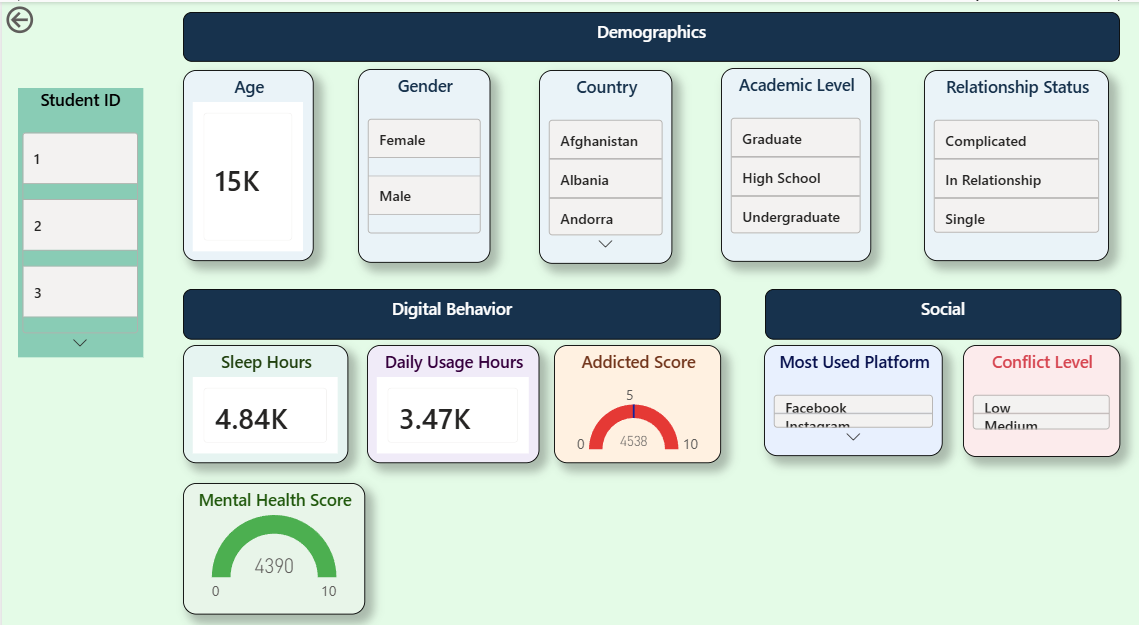

Layout of this report page (visuals, bound fields, positions):
{"tool":"powerbi","page":{"name":"Student Profile","canvas":[1280,720],"ordinal":6},"visuals":[{"type":"actionButton","box":[0,0,100,40],"z":0},{"type":"cardVisual","title":"Student ID","fields":{"Rows":["Student Details.Student_ID"]},"box":[18,96.8,140.6,302.6],"z":1000},{"type":"cardVisual","title":"Academic Level","fields":{"Rows":["Student Details.Academic_Level"]},"box":[808.9,74.1,168.6,217.6],"z":2000},{"type":"cardVisual","title":"Country","fields":{"Rows":["Student Details.Country"]},"box":[603.8,76.3,150.4,217.6],"z":3000},{"type":"cardVisual","title":"Age","fields":{"Data":["Sum(Student Details.Age)"]},"box":[203.9,76.3,147,215.3],"z":4000},{"type":"cardVisual","title":"Gender","fields":{"Rows":["Student Details.Gender"]},"box":[401,75.2,149.2,217.6],"z":5000},{"type":"cardVisual","title":"Relationship Status","fields":{"Rows":["Student Details.Relationship_Status"]},"box":[1036.7,76.3,208.5,215.3],"z":6000},{"type":"cardVisual","title":"Sleep Hours","fields":{"Data":["Sum(Student Details.Sleep_Hours_Per_Night)"]},"box":[203.9,386.2,185.7,133.3],"z":7000},{"type":"cardVisual","title":"Daily Usage Hours","fields":{"Data":["Sum(Platform Details.Avg_Daily_Usage_Hours)"]},"box":[410.1,386.2,193.7,133.3],"z":8000},{"type":"gauge","title":"Addicted Score","fields":{"Y":["Sum(Student Details.Addicted_Score)"]},"box":[620.9,386.2,188,133.3],"z":9000},{"type":"cardVisual","title":"Most Used Platform","fields":{"Rows":["Platform Details.Most_Used_Platform"]},"box":[857.2,385.9,201.4,124.9],"z":10000},{"type":"cardVisual","title":"Conflict Level","fields":{"Rows":["Student Details.Conflict Level"]},"box":[1081.1,385.9,176.6,126],"z":11000},{"type":"gauge","title":"Mental Health Score","fields":{"Y":["Sum(Student Details.Mental_Health_Score)"]},"box":[203.9,541.1,205.1,148.1],"z":12000},{"type":"textbox","box":[203.9,11.4,1053.8,55.8],"z":13000},{"type":"textbox","box":[203.9,322.4,604.9,57],"z":14000},{"type":"textbox","box":[858.4,322.9,400.5,57.4],"z":15000}]}

Visuals, with their boxes in screenshot pixels (x1, y1, x2, y2), scaled from the page's 1280x720 canvas onto the 1139x625 screenshot:
actionButton: select_region(0, 0, 89, 35)
"Student ID" cardVisual: select_region(16, 84, 141, 347)
"Academic Level" cardVisual: select_region(720, 64, 870, 253)
"Country" cardVisual: select_region(537, 66, 671, 255)
"Age" cardVisual: select_region(181, 66, 312, 253)
"Gender" cardVisual: select_region(357, 65, 490, 254)
"Relationship Status" cardVisual: select_region(923, 66, 1108, 253)
"Sleep Hours" cardVisual: select_region(181, 335, 347, 451)
"Daily Usage Hours" cardVisual: select_region(365, 335, 537, 451)
"Addicted Score" gauge: select_region(553, 335, 720, 451)
"Most Used Platform" cardVisual: select_region(763, 335, 942, 443)
"Conflict Level" cardVisual: select_region(962, 335, 1119, 444)
"Mental Health Score" gauge: select_region(181, 470, 364, 598)
textbox: select_region(181, 10, 1119, 58)
textbox: select_region(181, 280, 720, 329)
textbox: select_region(764, 280, 1120, 330)
